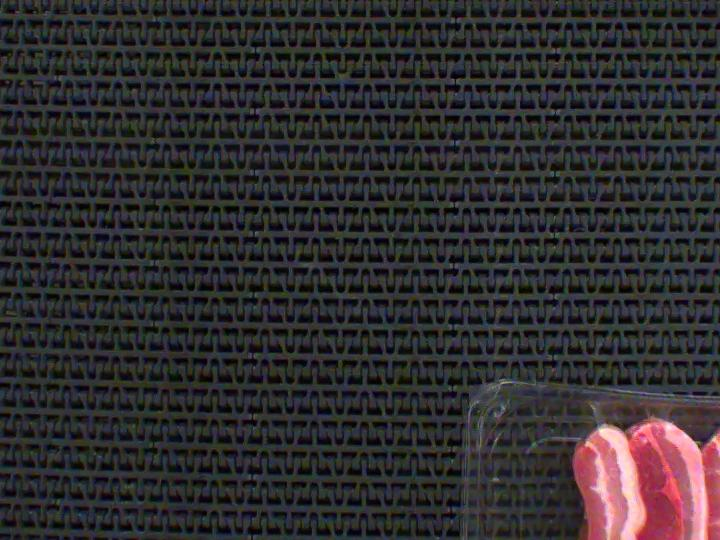packaging-error: (566, 394, 621, 437), (641, 394, 680, 426)
